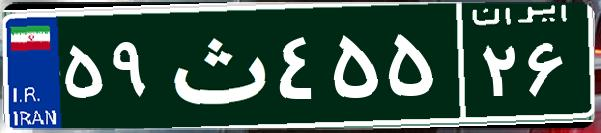2: (475, 38, 525, 113)
4: (273, 28, 330, 110)
5: (385, 28, 445, 110), (330, 28, 385, 110), (57, 26, 110, 107)
6: (525, 38, 570, 115)
9: (110, 28, 158, 105)
ث: (158, 15, 273, 115)
